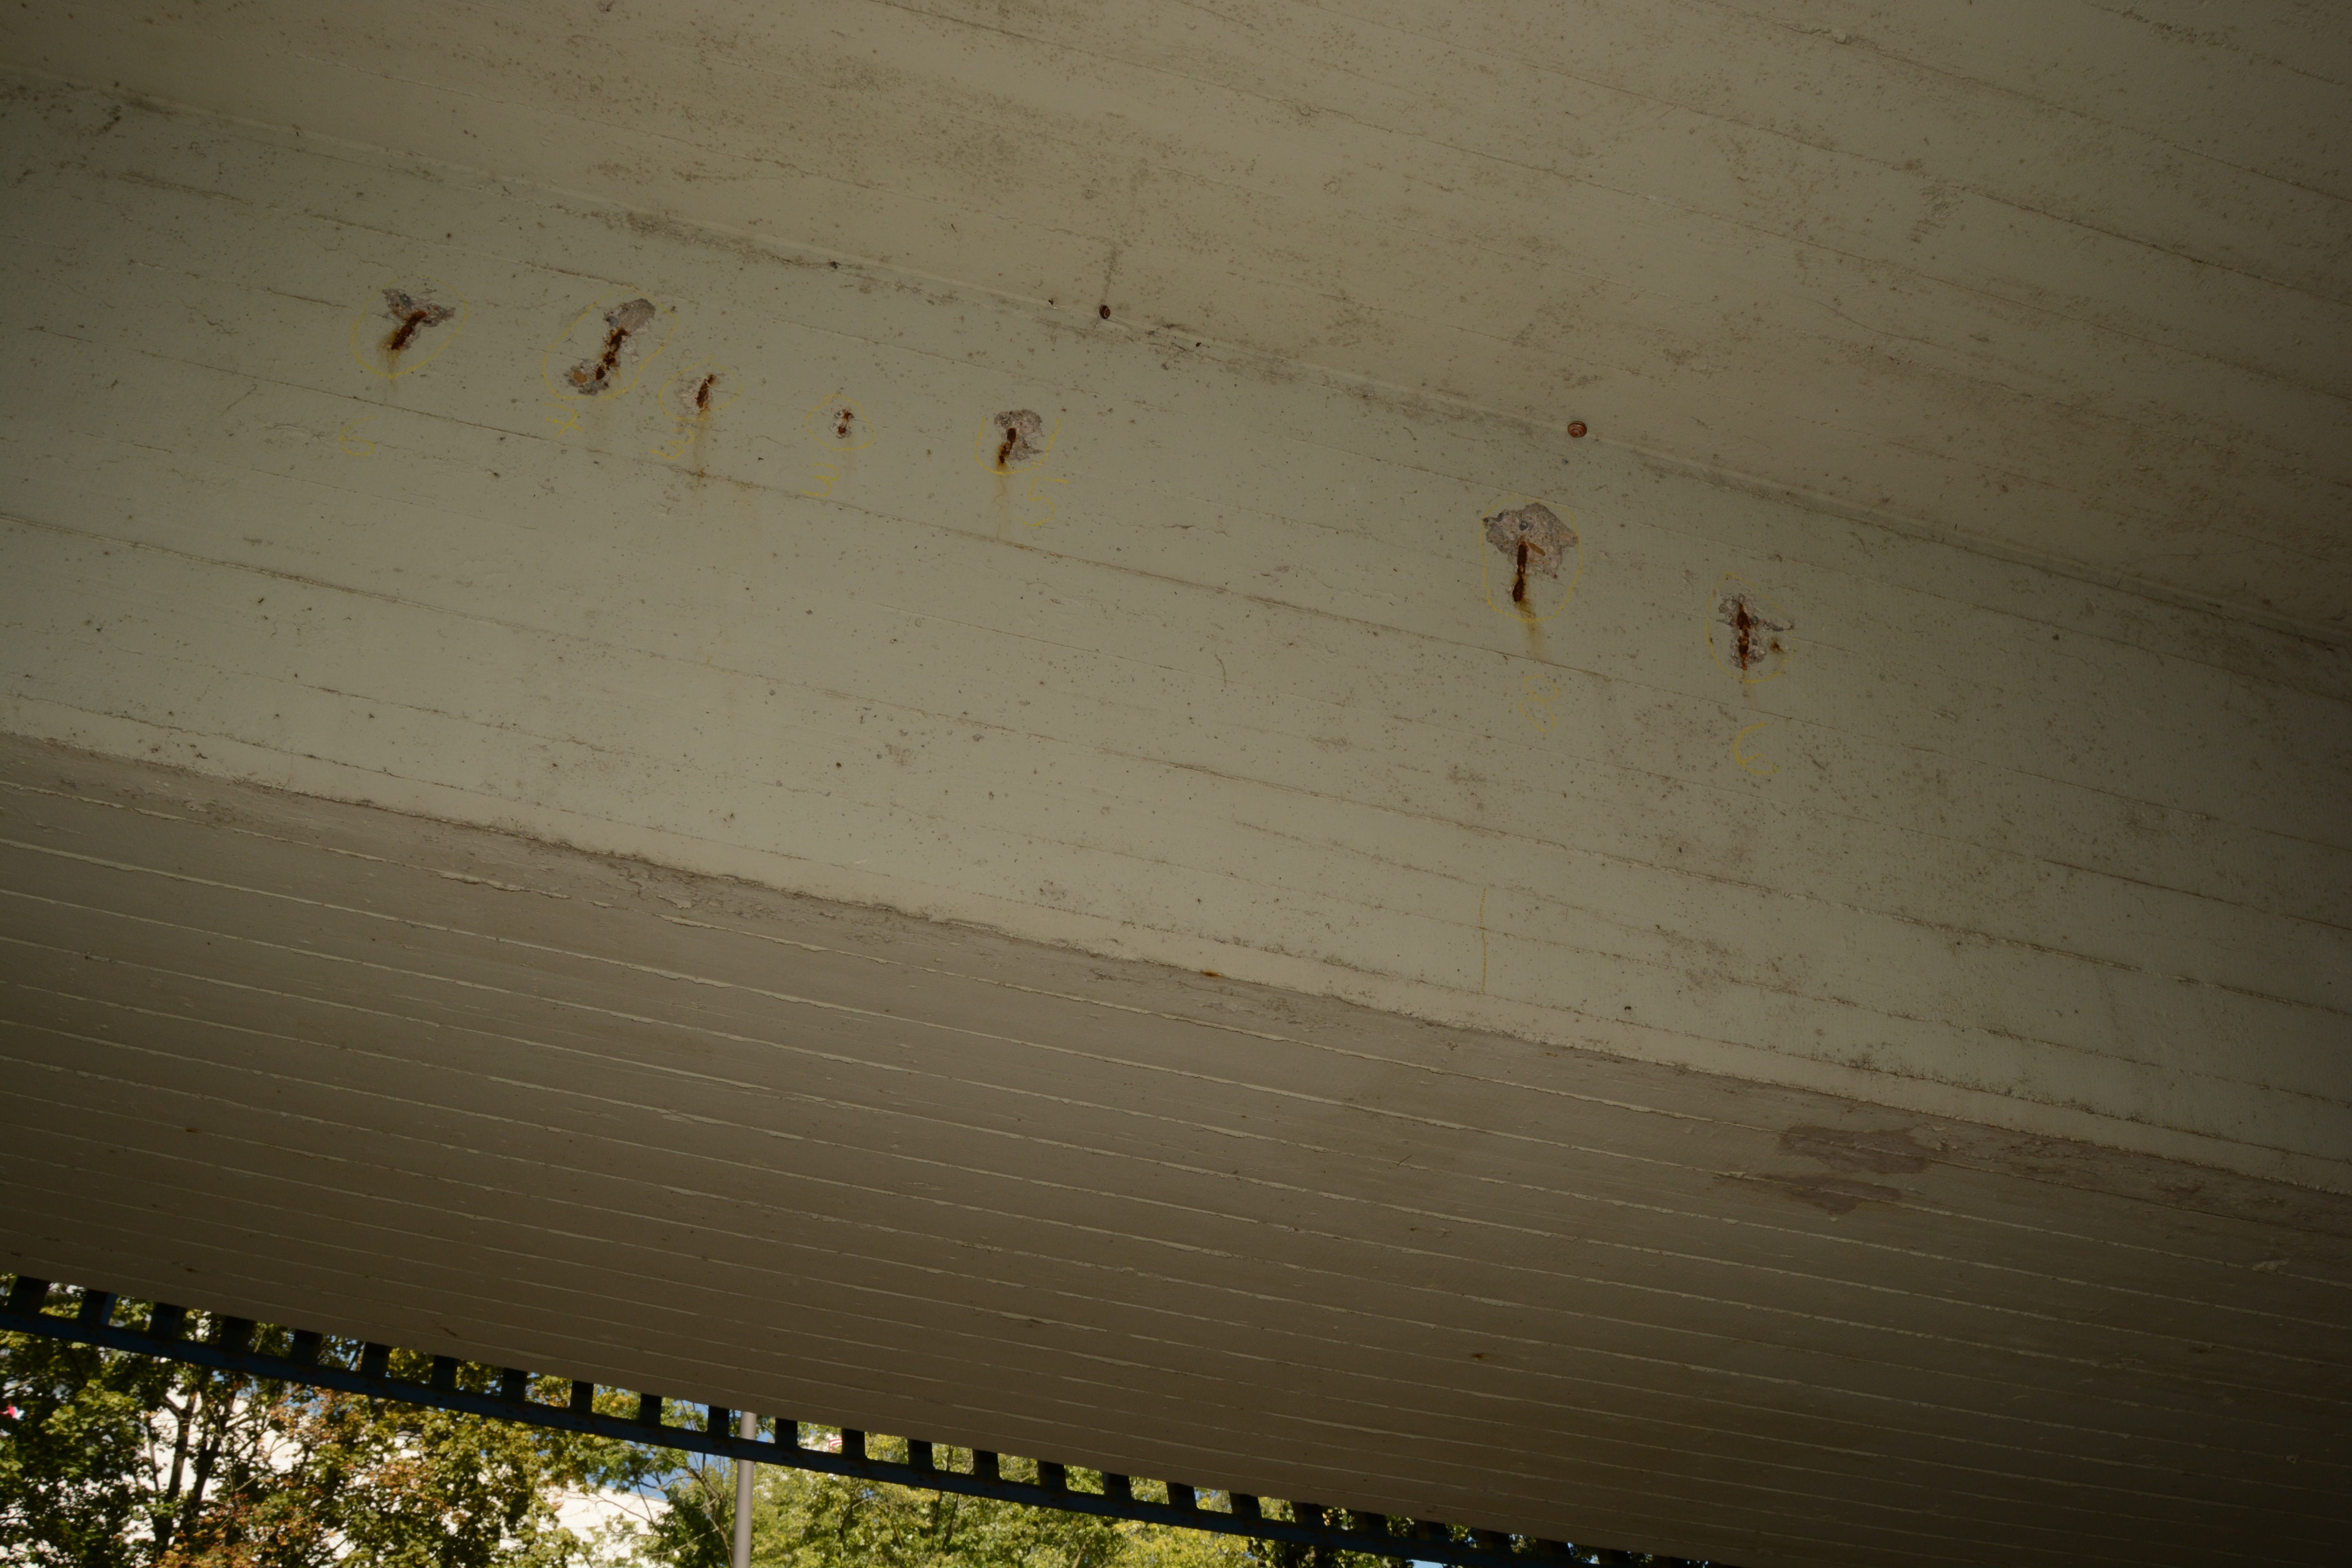Corrosion: (1739, 656, 1748, 670), (1771, 641, 1781, 651), (1739, 604, 1745, 611)
Exposed reinforcement: (595, 327, 628, 382), (390, 310, 427, 350), (1512, 544, 1528, 602), (1736, 611, 1752, 656), (999, 427, 1017, 465), (697, 374, 712, 409), (838, 411, 851, 434)
Spalling: (562, 297, 656, 395), (1480, 502, 1580, 577), (1717, 592, 1783, 672), (380, 287, 457, 352), (994, 409, 1047, 462), (675, 373, 716, 415), (826, 408, 857, 439), (1099, 305, 1111, 320)
